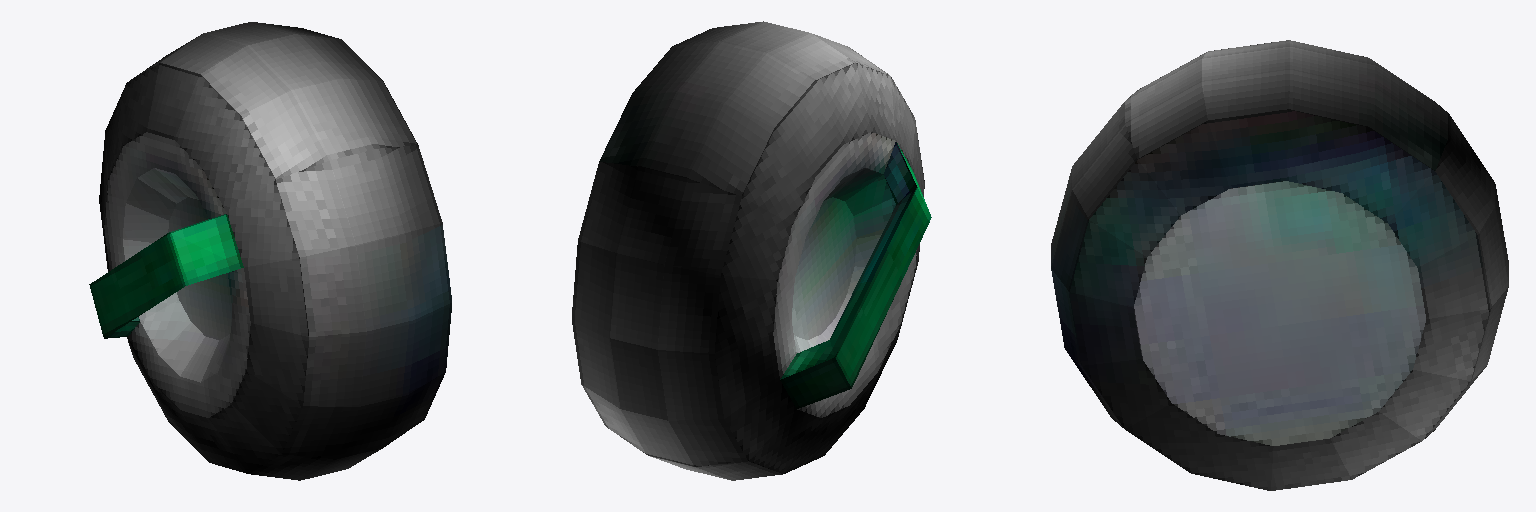
3 views of the same model, side by side, from view 1: azimuth 30°, elevation 25°; view 2: azimuth 150°, elevation 25°; view 3: azimuth 270°, elevation 25° (orthographic).
Visible parts, largest first — view 1: Object012; view 2: Object012; view 3: Object012.
Boxes of the visible parts, x1=… form: Object012: x1=89, y1=22, x2=451, y2=480; Object012: x1=572, y1=21, x2=931, y2=480; Object012: x1=1051, y1=40, x2=1508, y2=490.
Size of the model in its own units: 5.4 by 9.07 by 9.07.
Materials: 1 (1 with a texture image).